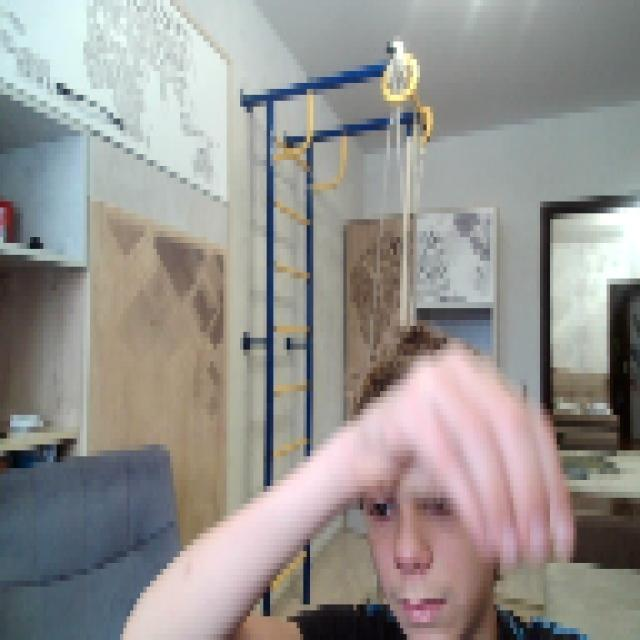left_click: (403, 326, 577, 569)
